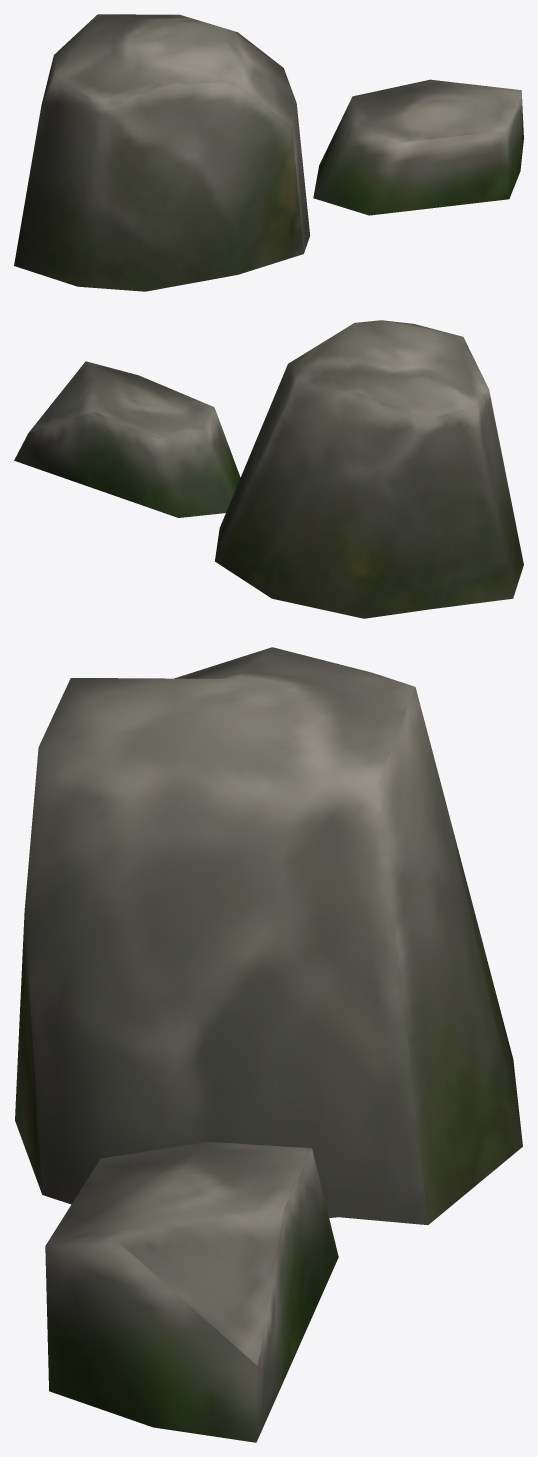
Rendered from Stage_CaoYuan_HeShi07.FBX.
3 renders of one model, top to bottom at view 1: azimuth 30°, elevation 25°; view 2: azimuth 150°, elevation 25°; view 3: azimuth 270°, elevation 25°, orthographic. The views are drawn at different scales.
Parts seen in each view (by area): view 1: Stage_CaoYuan_HeShi07; view 2: Stage_CaoYuan_HeShi07; view 3: Stage_CaoYuan_HeShi07.
Boxes of the visible parts, x1=… form: Stage_CaoYuan_HeShi07: x1=14, y1=14, x2=523, y2=291; Stage_CaoYuan_HeShi07: x1=14, y1=320, x2=523, y2=618; Stage_CaoYuan_HeShi07: x1=15, y1=647, x2=522, y2=1442.
Size of the model in its own units: 181 by 72.78 by 79.14.
